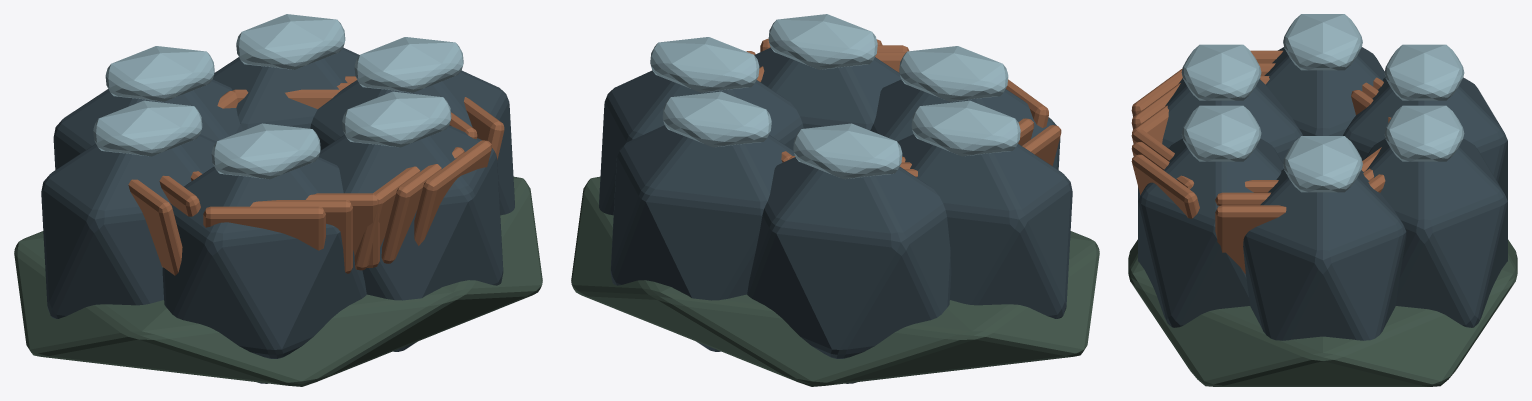
The model's file is iron_ore.glb.
The picture shows the model from 3 angles, left to right: view 1: azimuth 30°, elevation 25°; view 2: azimuth 150°, elevation 25°; view 3: azimuth 270°, elevation 25°; orthographic projection. The views are drawn at different scales.
Visible parts, largest first — view 1: RockBed, FracturedOre.004, FracturedOre.003, FracturedOre.005, IronVein.012, IronVein.015, FracturedOre.001, FracturedOre, FracturedOre.002, ExposedMetal.004, ExposedMetal, ExposedMetal.002 (+6 smaller); view 2: FracturedOre.002, RockBed, FracturedOre.001, FracturedOre.003, FracturedOre, FracturedOre.005, ExposedMetal.002, ExposedMetal, ExposedMetal.004, ExposedMetal.003, ExposedMetal.005, ExposedMetal.001 (+4 smaller); view 3: FracturedOre, RockBed, FracturedOre.001, FracturedOre.005, FracturedOre.003, FracturedOre.002, FracturedOre.004, ExposedMetal.002, ExposedMetal.004, ExposedMetal.001, ExposedMetal.005, ExposedMetal (+7 smaller).
Part boxes in pixels (box(x1,y1,x2,y2)): RockBed: box(14, 176, 542, 386); FracturedOre.004: box(162, 157, 366, 383); FracturedOre.003: box(41, 134, 216, 318); FracturedOre.005: box(319, 125, 503, 351); IronVein.012: box(203, 193, 379, 273); IronVein.015: box(354, 140, 491, 270); FracturedOre.001: box(213, 47, 359, 130); FracturedOre: box(310, 70, 514, 215); FracturedOre.002: box(53, 79, 243, 169); ExposedMetal.004: box(211, 123, 320, 179); ExposedMetal: box(354, 37, 463, 92); ExposedMetal.002: box(105, 46, 214, 101); FracturedOre.002: box(747, 157, 951, 383); RockBed: box(571, 176, 1099, 386); FracturedOre.001: box(610, 125, 794, 351); FracturedOre.003: box(897, 134, 1072, 318); FracturedOre: box(599, 70, 803, 215); FracturedOre.005: box(754, 47, 900, 130); ExposedMetal.002: box(793, 123, 902, 179); ExposedMetal: box(650, 37, 759, 92); ExposedMetal.004: box(899, 46, 1008, 101); ExposedMetal.003: box(911, 100, 1020, 156); ExposedMetal.005: box(768, 14, 877, 69); ExposedMetal.001: box(662, 91, 771, 147); FracturedOre: box(1243, 169, 1406, 340); RockBed: box(1128, 239, 1517, 386); FracturedOre.001: box(1365, 138, 1507, 327); FracturedOre.005: box(1138, 138, 1283, 327); FracturedOre.003: box(1264, 47, 1385, 135); FracturedOre.002: box(1343, 77, 1507, 200); FracturedOre.004: box(1138, 78, 1302, 200); ExposedMetal.002: box(1384, 44, 1464, 100); ExposedMetal.004: box(1181, 44, 1261, 100); ExposedMetal.001: box(1384, 105, 1464, 161); ExposedMetal.005: box(1181, 105, 1261, 161); ExposedMetal: box(1283, 136, 1362, 192).
Bounding box in the file's own units: 2.02 × 0.98 × 1.43.
